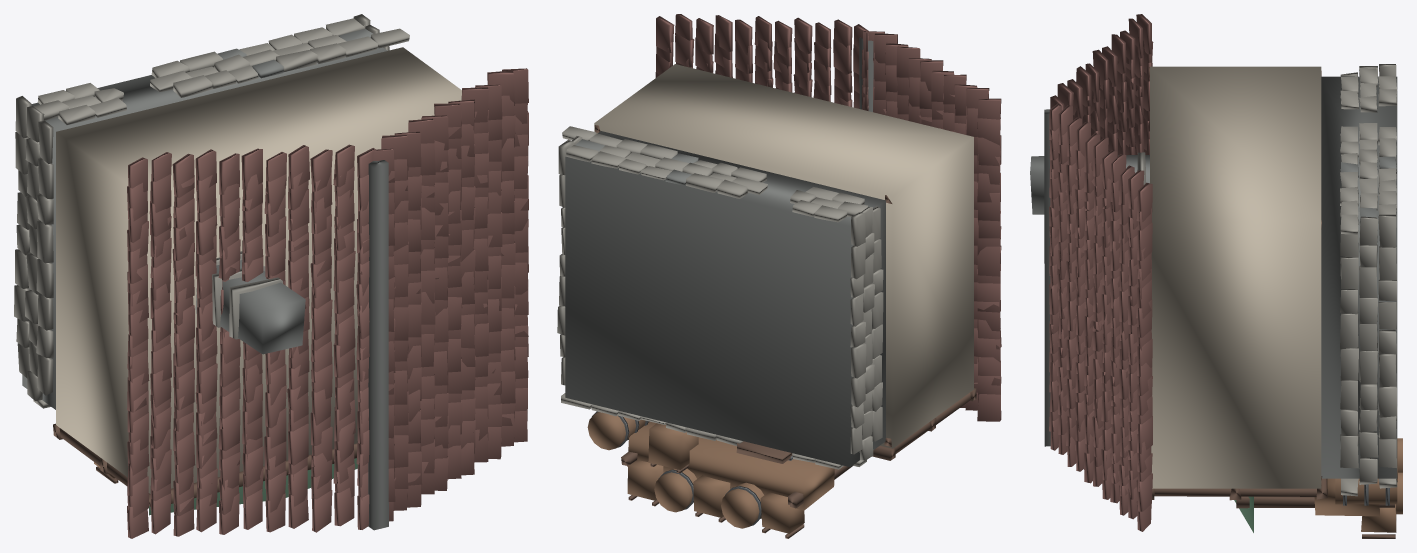
Rendered from general_store_hd.glb.
3 renders of one model, left to right at view 1: azimuth 30°, elevation 25°; view 2: azimuth 150°, elevation 25°; view 3: azimuth 270°, elevation 25°, orthographic. The views are drawn at different scales.
Bounding box in the file's own units: 7.51 × 7.84 × 6.63.
